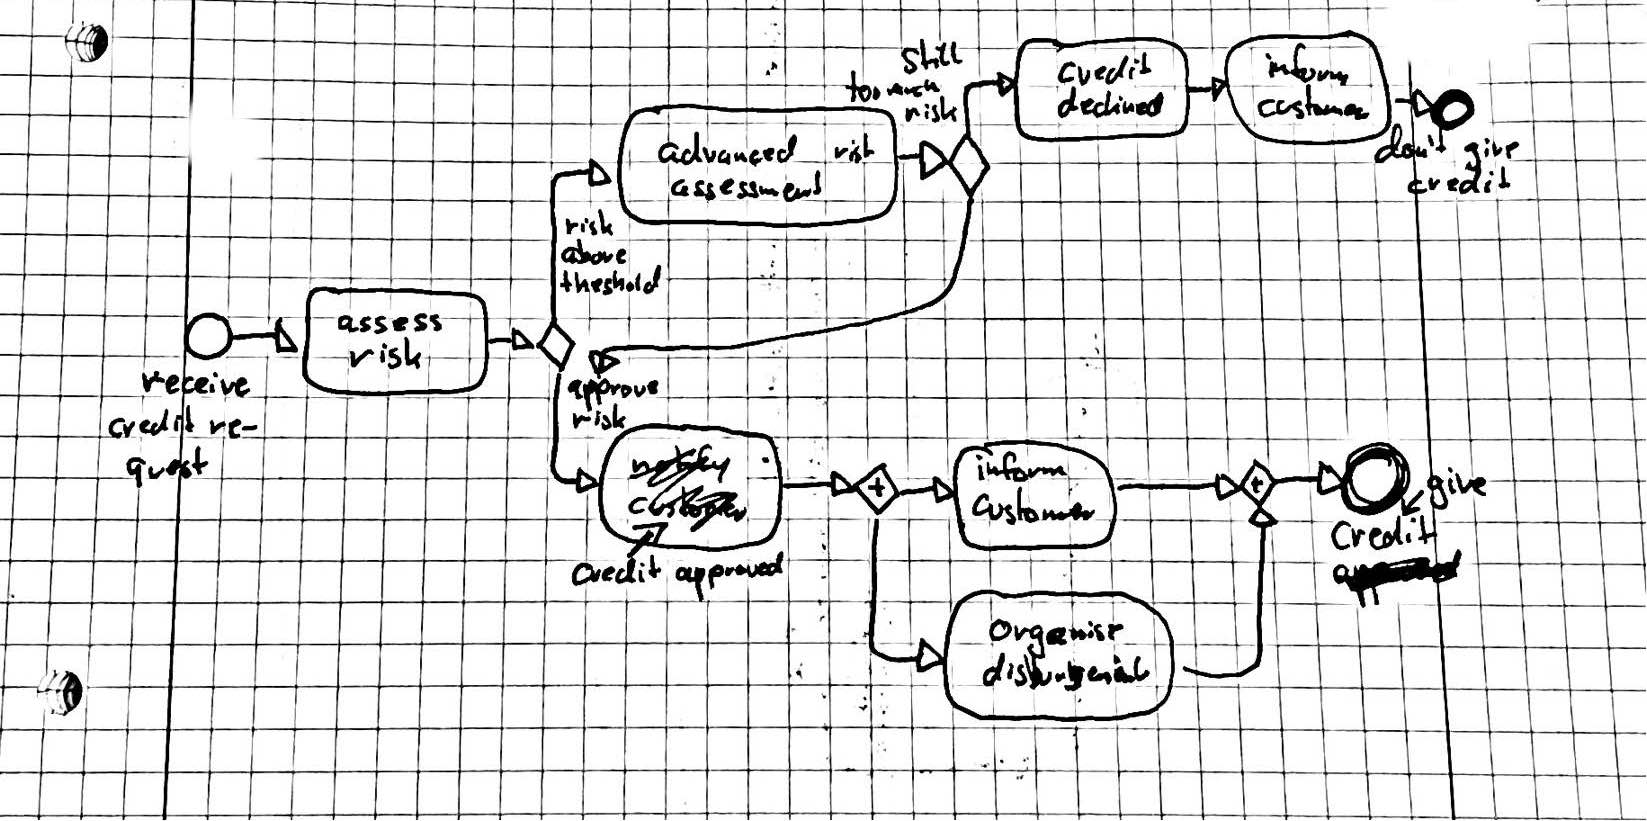Organize: (983, 614, 1126, 664)
above: (557, 237, 632, 267)
advanced: (653, 125, 804, 172)
approve: (564, 372, 664, 414)
approved: (668, 546, 790, 606)
assess: (332, 308, 446, 340)
assessment: (666, 166, 827, 207)
credit: (1325, 511, 1439, 559), (1401, 159, 1516, 202), (1054, 49, 1158, 94), (101, 401, 200, 444), (565, 552, 668, 591)
customer: (967, 483, 1101, 531), (1253, 80, 1375, 125)
declined: (1052, 83, 1170, 125)
disburgenial: (977, 648, 1156, 698)
don't: (1368, 117, 1451, 170)
give: (1420, 461, 1493, 513), (1459, 132, 1526, 176)
inform: (1262, 41, 1353, 91), (971, 448, 1073, 488)
much: (881, 72, 945, 106)
quest: (119, 443, 213, 492)
re-: (203, 412, 260, 444)
receive: (135, 365, 256, 402)
risk: (343, 334, 428, 375), (900, 92, 965, 131), (566, 400, 632, 434), (563, 206, 621, 240), (830, 133, 879, 170)
still: (896, 35, 968, 81)
theshold: (556, 261, 666, 301)
too: (841, 67, 887, 111)
